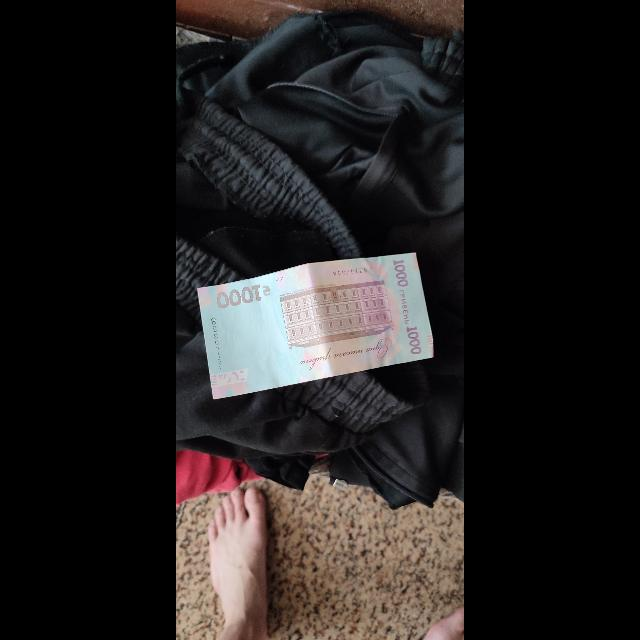1000uah: (197, 252, 433, 401)
